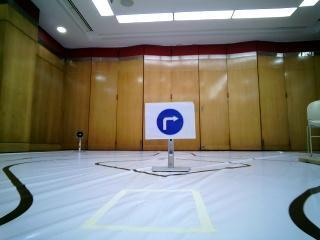right: (147, 103, 193, 137)
